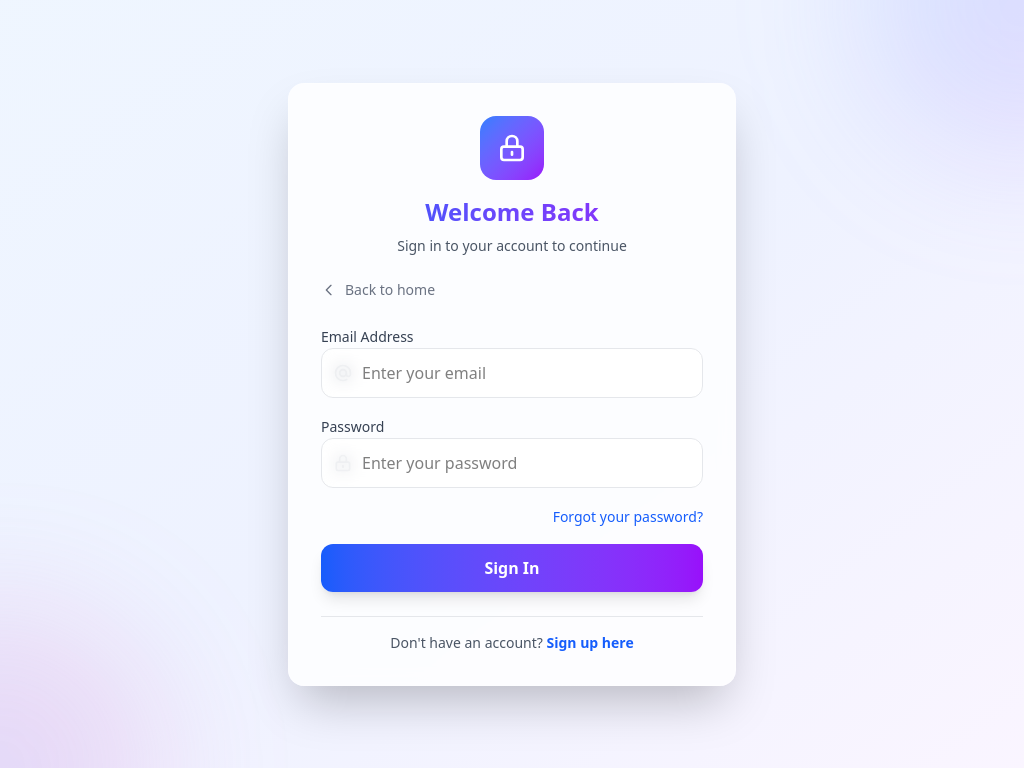
it: Login › should navigate to dashboard on successful login
The width and height of the screenshot is (1024, 768).
Note: First create a user by signing up
Click the button "Sign up here": (590, 642) [546,632,634,652]
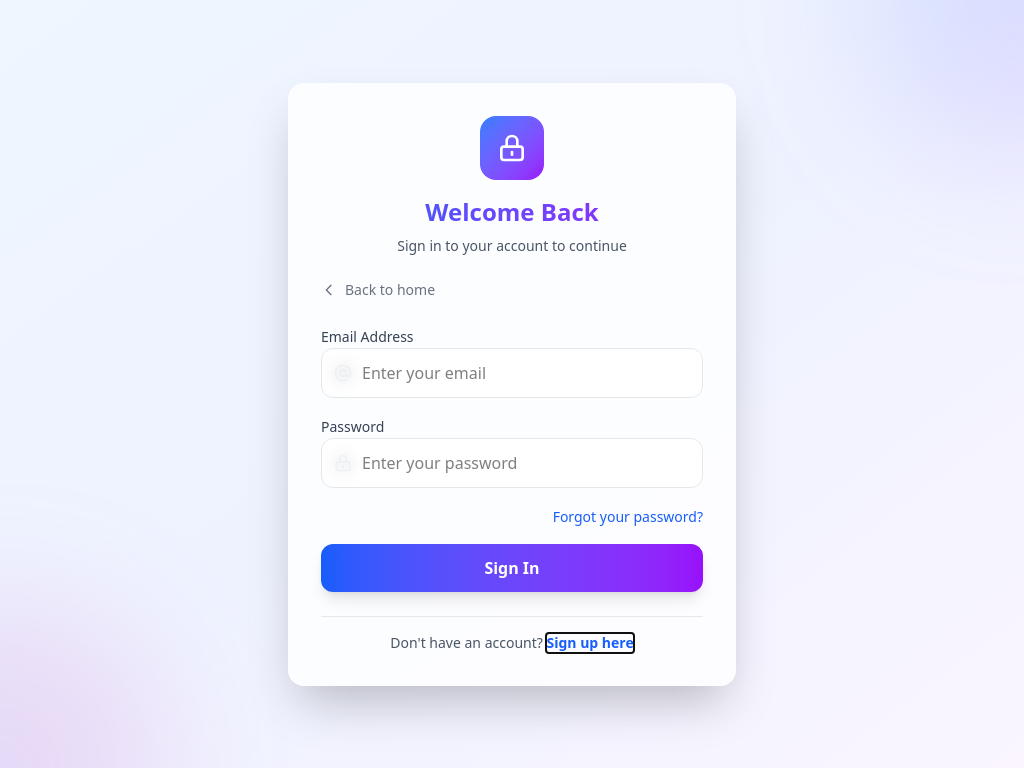
Note: Create user first
In the field labelled "Email Address": (512, 372) [321,348,703,398], type "test@example.com"
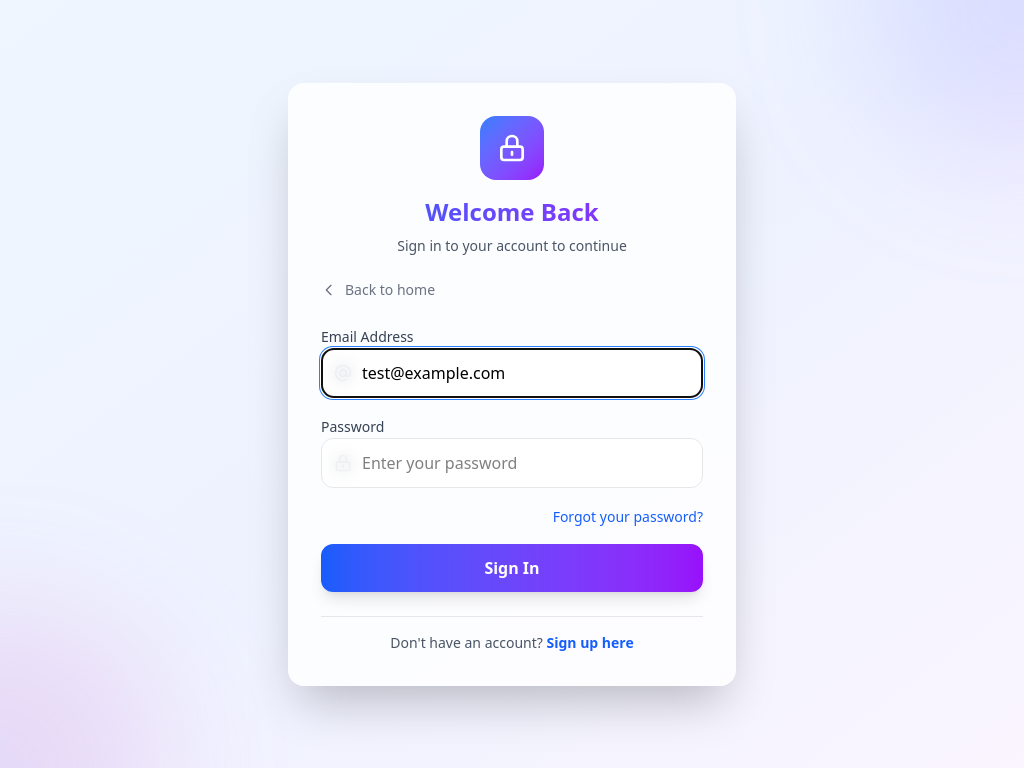
In the password field labelled "Password": (512, 462) [321,438,703,488], type "password123"
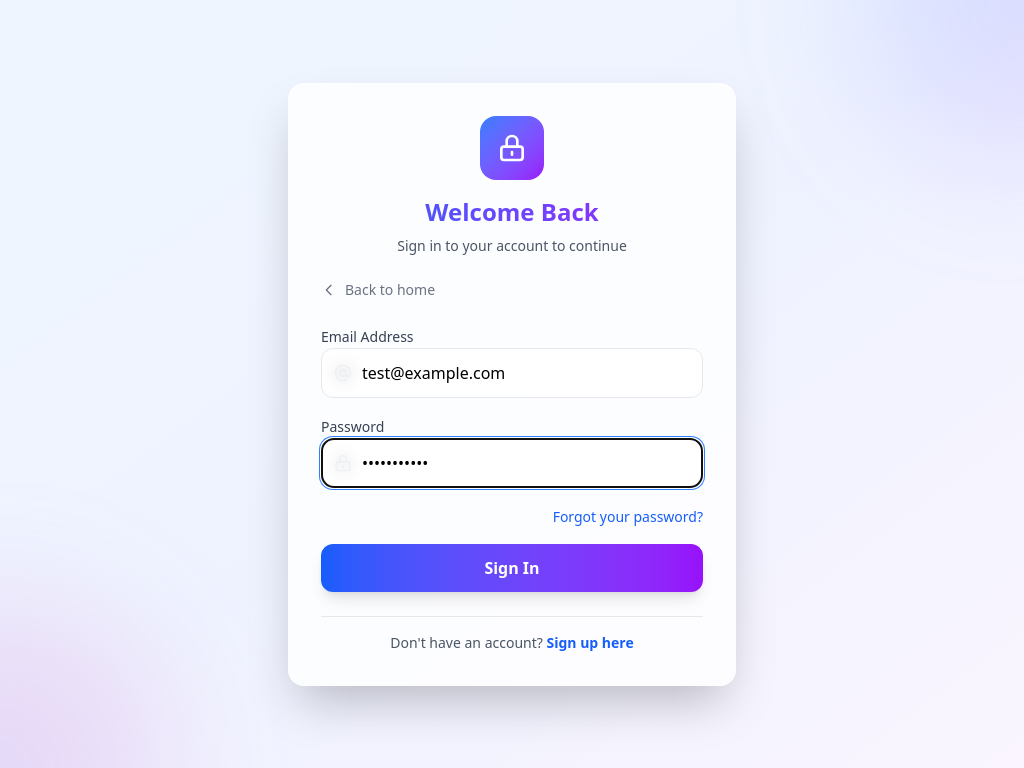
Click the button "Sign In": (512, 568) [321,544,703,592]
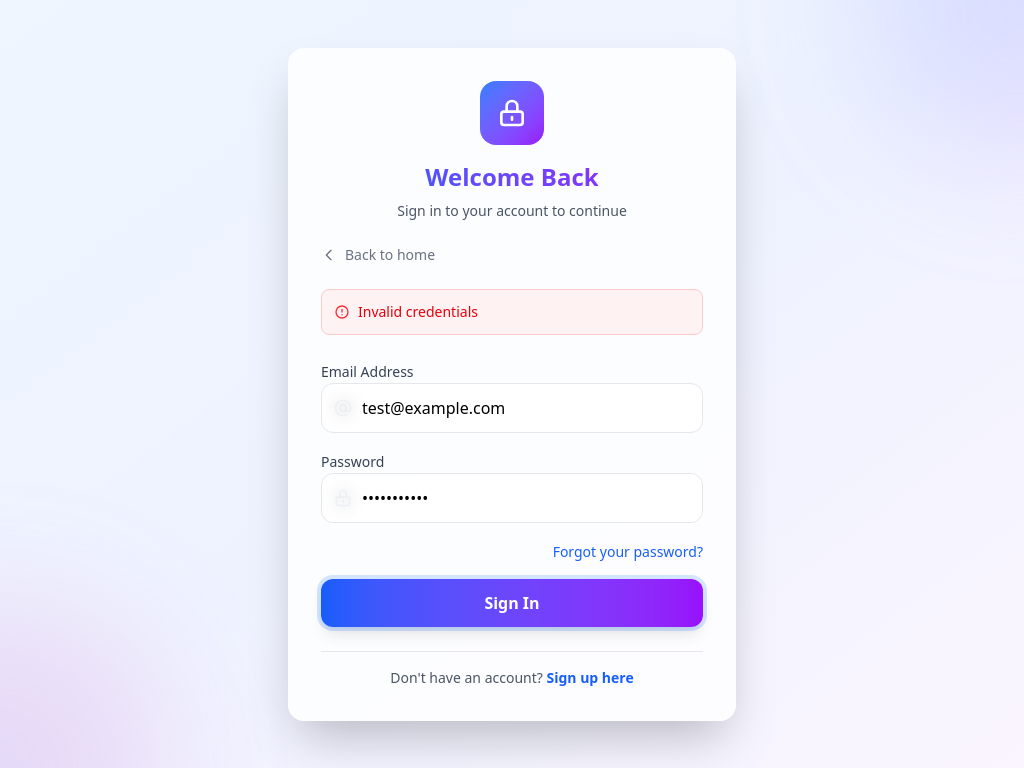
expect the text "Invalid credentials" is shown: met, box [358,302,478,322]
